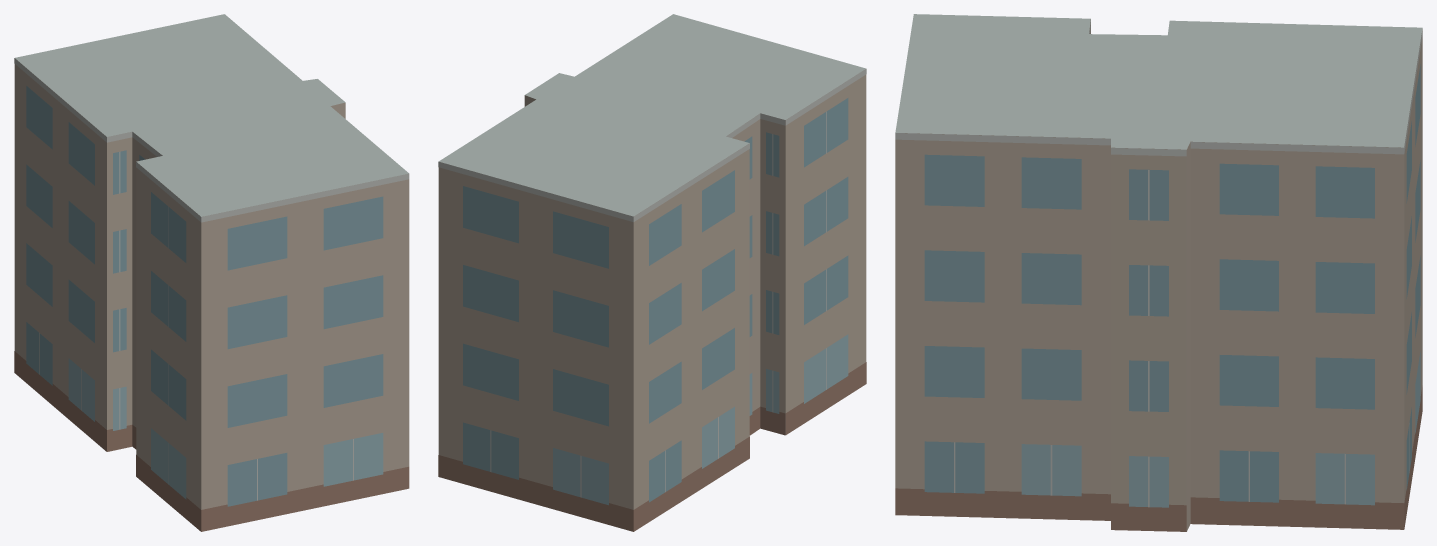
Rendered from survey-upis-32750028.glb.
3 renders of one model, left to right at view 1: azimuth 30°, elevation 25°; view 2: azimuth 150°, elevation 25°; view 3: azimuth 270°, elevation 25°, orthographic. The views are drawn at different scales.
Visible parts, largest first — view 1: survey-upis-32750028.tmp; view 2: survey-upis-32750028.tmp; view 3: survey-upis-32750028.tmp.
Part boxes in pixels (left/top/right/bottom): survey-upis-32750028.tmp: left=14, top=14, right=409, bottom=531; survey-upis-32750028.tmp: left=438, top=14, right=866, bottom=531; survey-upis-32750028.tmp: left=895, top=14, right=1422, bottom=531.
Bounding box in the file's own units: 10.36 × 13.6 × 17.01.
